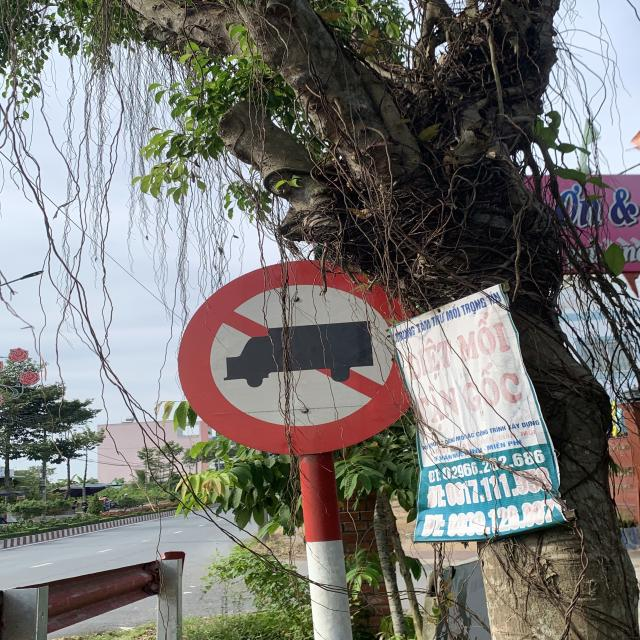Cam_Xe_Tai: (180, 256, 410, 454)
